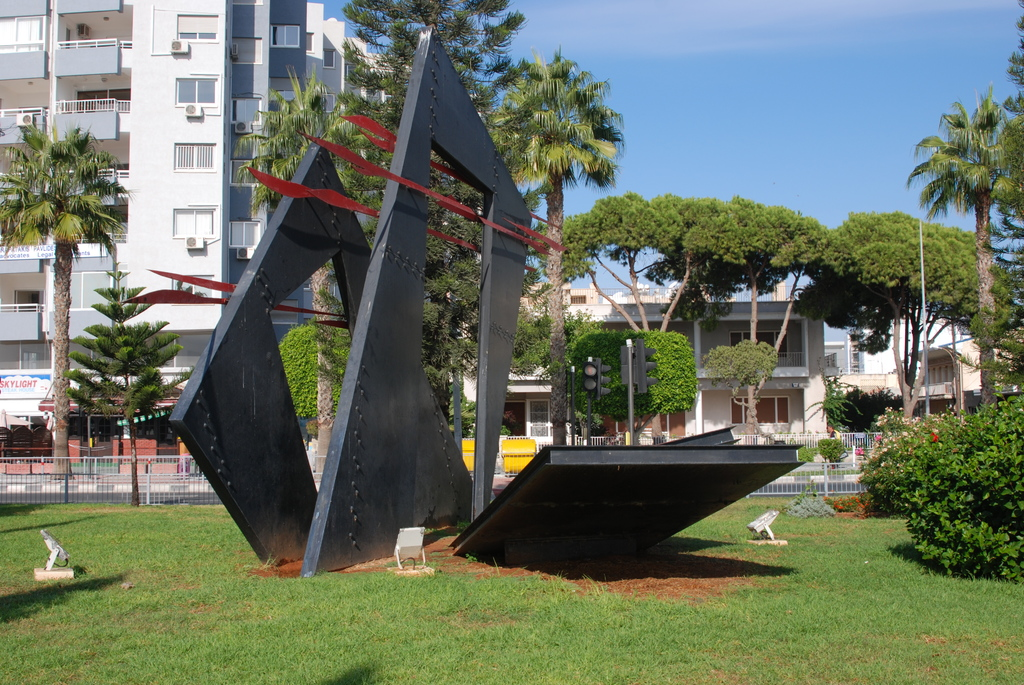Tree: (233, 66, 396, 482), (483, 44, 624, 454), (0, 123, 142, 487), (794, 212, 1013, 444), (522, 192, 715, 454), (904, 94, 1023, 415), (945, 0, 1023, 413), (702, 196, 829, 441), (343, 0, 530, 115), (420, 156, 490, 417), (565, 324, 699, 454), (277, 328, 357, 444), (704, 339, 774, 445)
